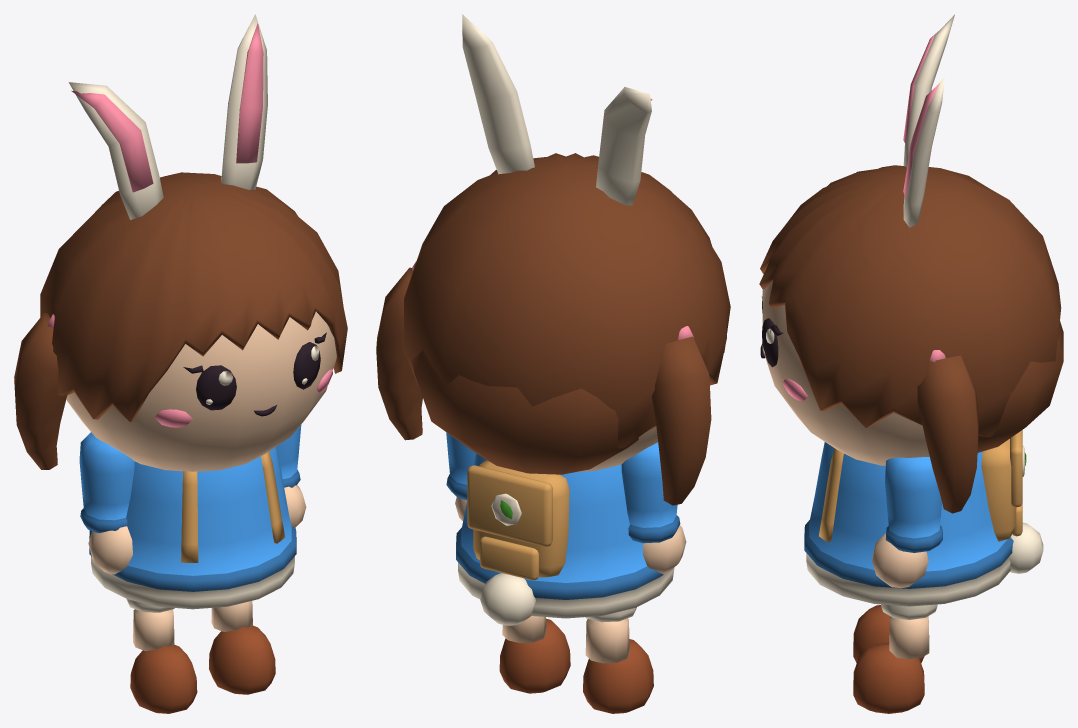
File: hero-bunny.glb
3 views of the same model, side by side, from view 1: azimuth 30°, elevation 25°; view 2: azimuth 150°, elevation 25°; view 3: azimuth 270°, elevation 25° (orthographic). The views are drawn at different scales.
Parts seen in each view (by area): view 1: head, body, head-leaf, arm-left, leg-left, leg-right, arm-right; view 2: head, body, head-leaf, leg-left, arm-left, leg-right, arm-right; view 3: head, body, arm-right, leg-right, head-leaf, leg-left.
Part boxes in pixels (x1,y1,x2,y2): head: (14, 172, 347, 471); body: (89, 446, 296, 609); head-leaf: (68, 14, 267, 219); arm-left: (79, 432, 134, 574); leg-left: (126, 599, 197, 713); leg-right: (209, 601, 275, 694); arm-right: (276, 425, 306, 527); head: (376, 153, 730, 505); body: (456, 453, 674, 625); head-leaf: (462, 14, 652, 205); leg-left: (583, 607, 653, 713); arm-left: (621, 442, 686, 573); leg-right: (499, 616, 570, 693); arm-right: (446, 432, 475, 520); head: (759, 165, 1063, 513); body: (804, 430, 1043, 606); arm-right: (872, 456, 942, 588); leg-right: (853, 604, 937, 713); head-leaf: (903, 14, 954, 227); leg-left: (853, 605, 924, 662).
Bounding box in the file's own units: 1.44 × 2.81 × 1.19.
